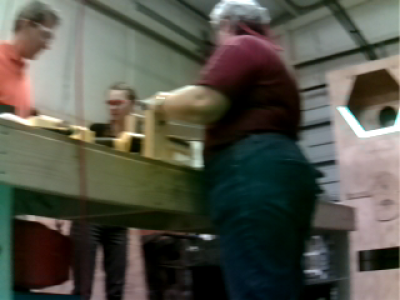target: (335, 105, 400, 138)
